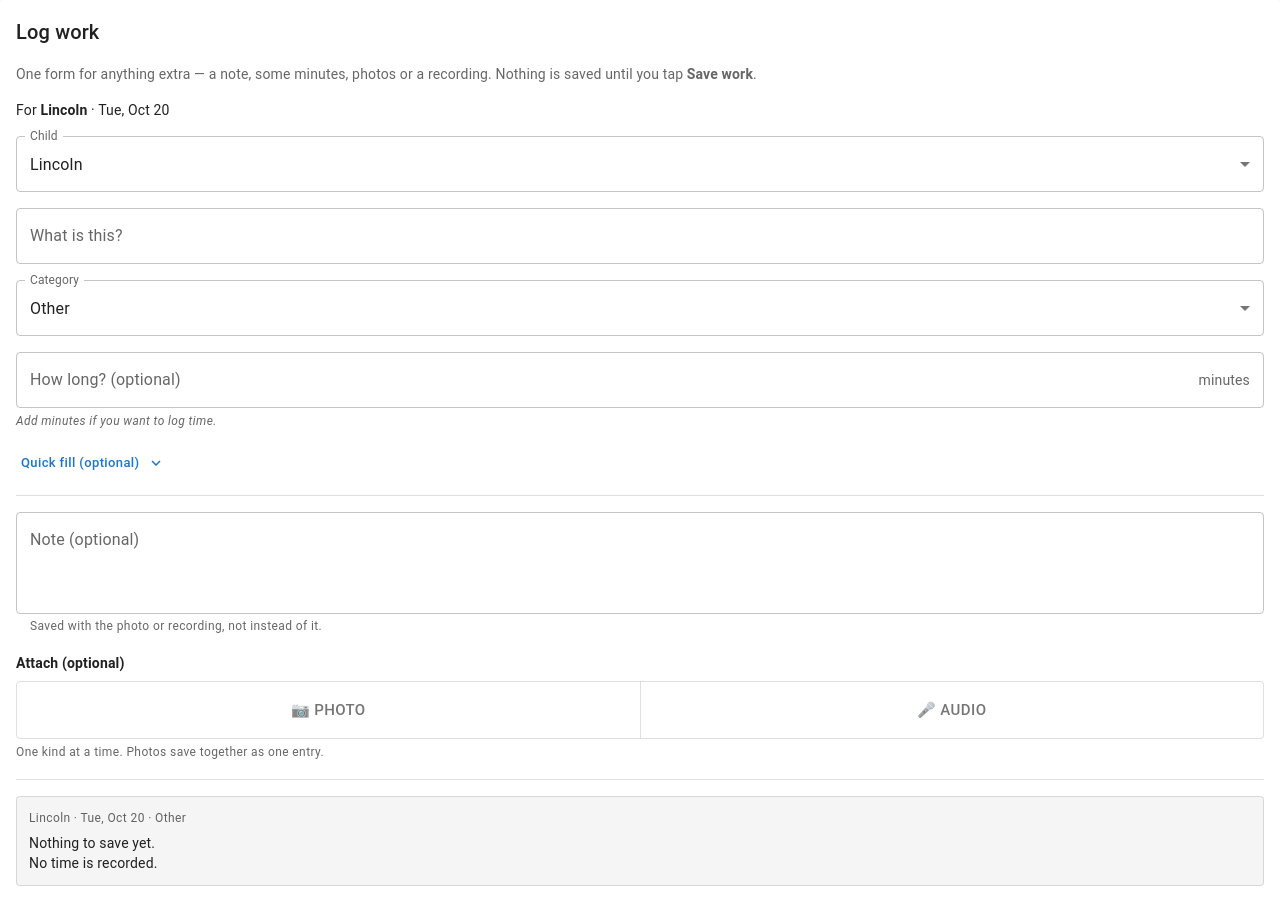
Test: LogWorkCard — one save, and what it writes › clears the form after a save it owns, and keeps nothing staged
The image size is (1280, 900).
Type "Built a tower" into the text box labelled "Note (optional)" at point(640, 563), box [30,528,1250,597]
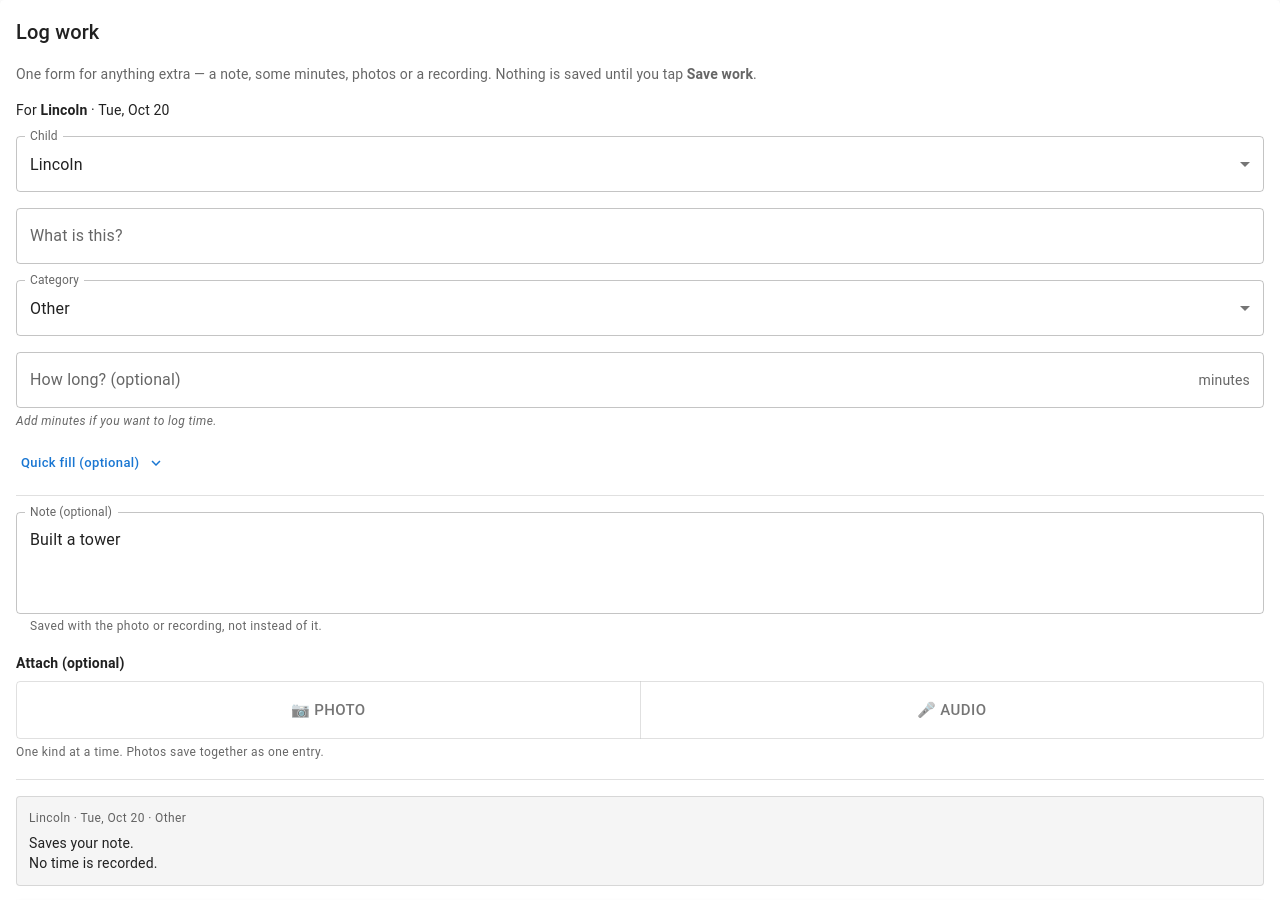
Type "45" into the number field named "Duration in minutes" at point(603, 380), box [16,352,1191,408]
(page scrolled)
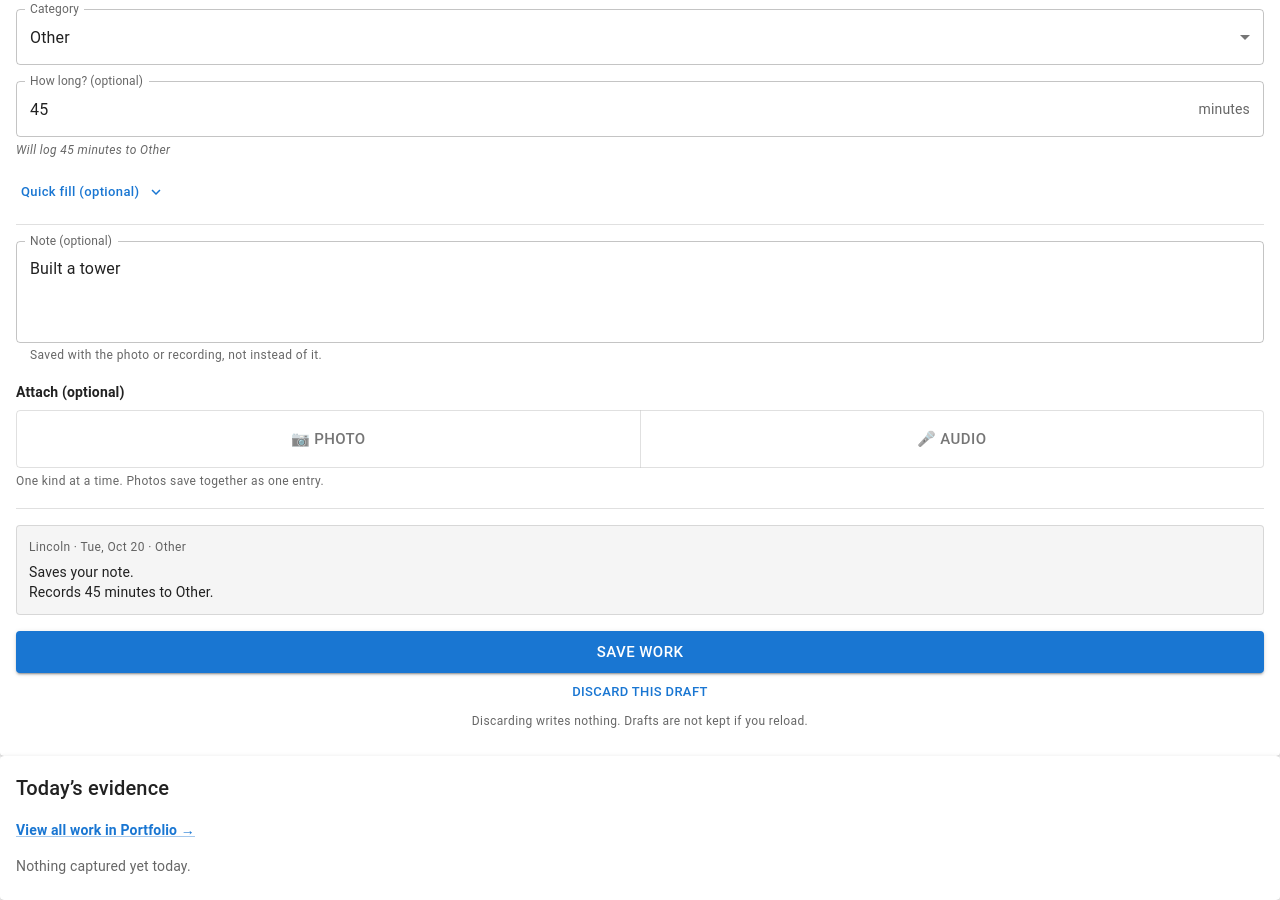
Click the button "Save work" at point(640, 652), box [16,631,1264,673]
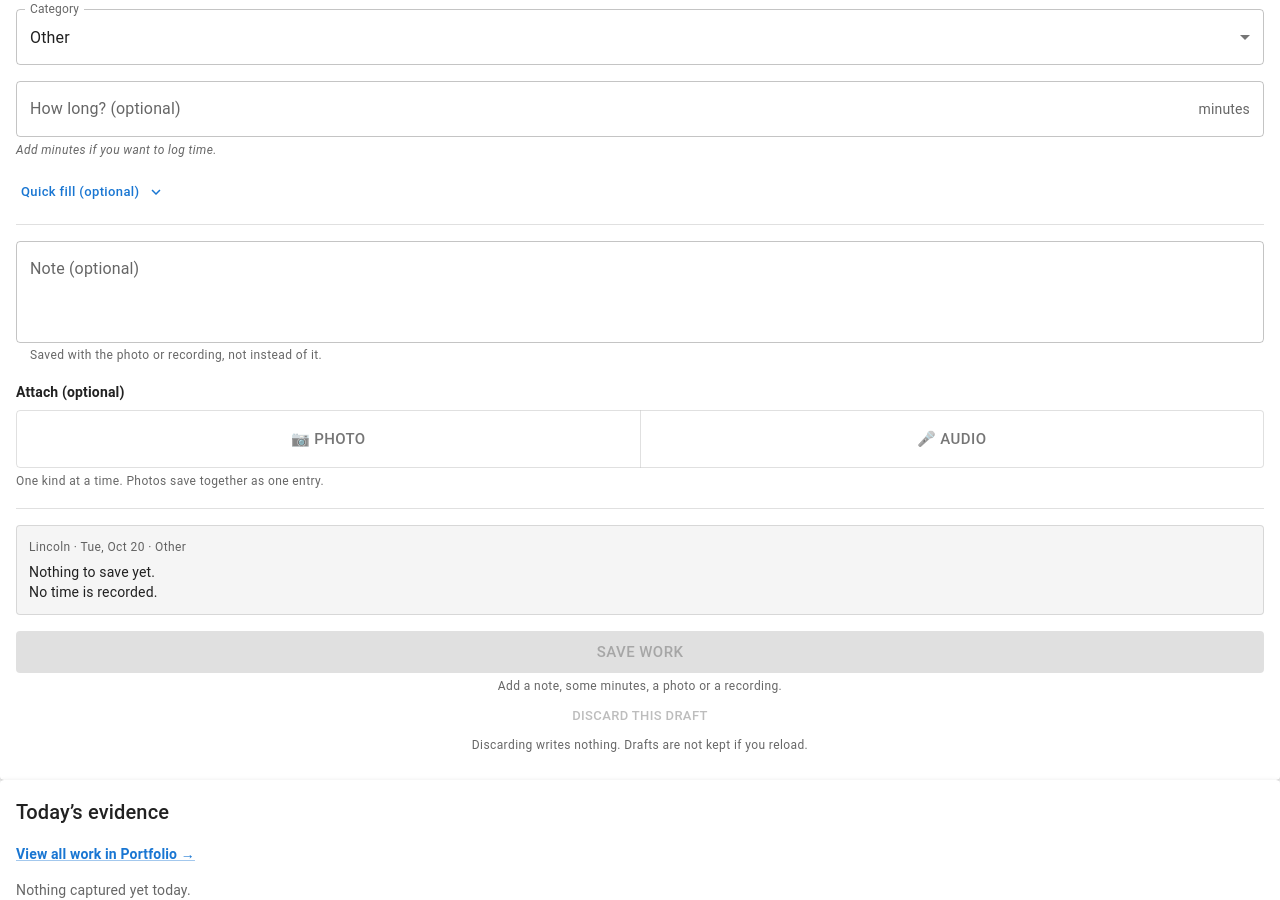
Result: the text box labelled "Note (optional)" is empty at [30,257,1250,326]
Result: the number field named "Duration in minutes" is empty at [16,81,1191,137]
Result: the button "Save work" is disabled at [16,631,1264,673]
